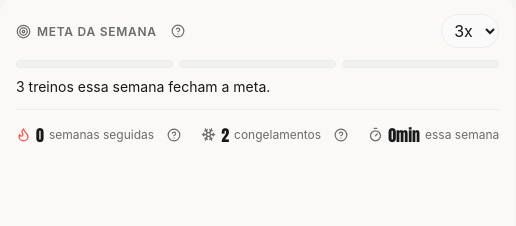
Test: MetaSemana › explica os conceitos quando alguem pergunta › a meta: que a troca vale so na proxima semana
The image size is (516, 226).
Click the button named "O que e a meta da semana?" at (178, 31), box [165,18,191,44]
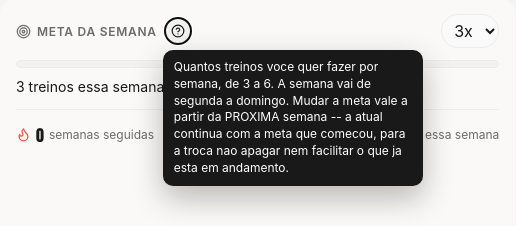
Expected: the tooltip shows "vale a partir da PROXIMA semana", [174,59,408,175]
